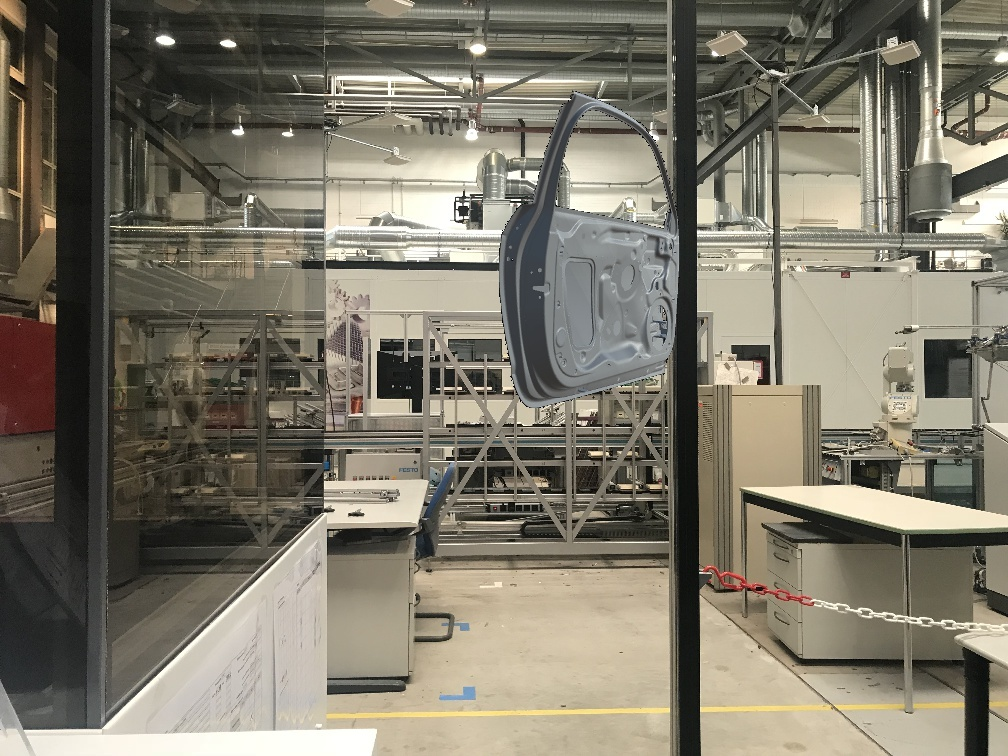car_door: (499, 90, 679, 407)
